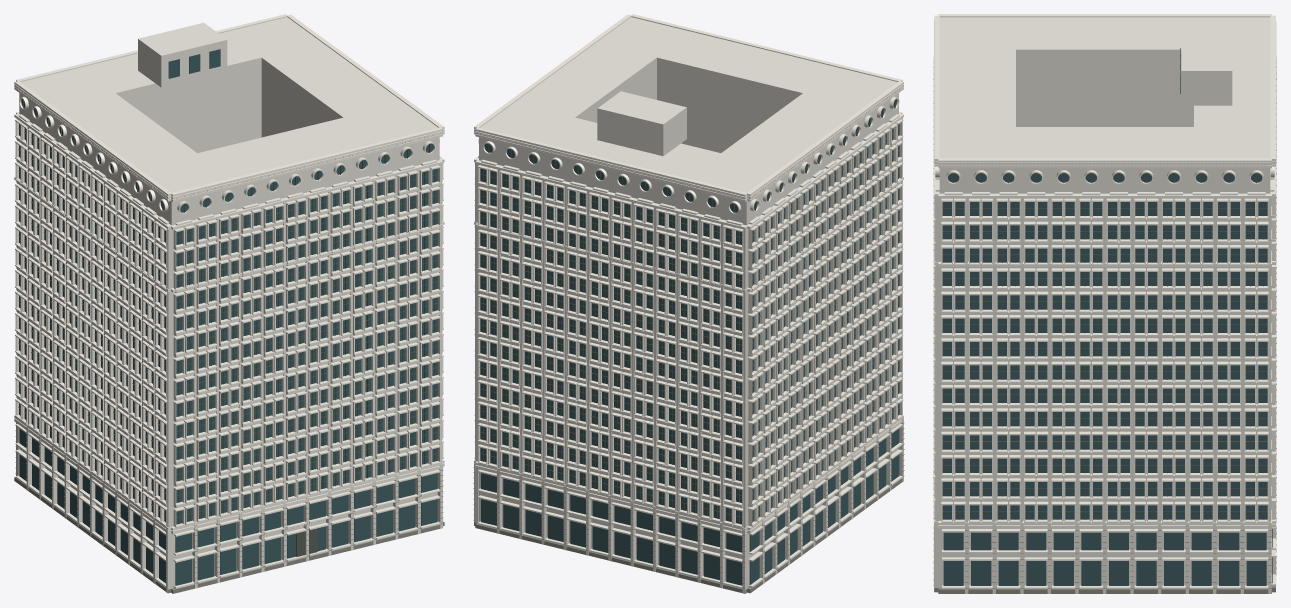
File: railway_exchange.glb
3 renders of one model, left to right at view 1: azimuth 30°, elevation 25°; view 2: azimuth 150°, elevation 25°; view 3: azimuth 270°, elevation 25°, orthographic. The views are drawn at different scales.
Parts seen in each view (by area): view 1: Raised terra cotta ornament, Glazed white terra cotta, Recessed blue green glazing, Dark bronze sashes, Granite entrance plinth; view 2: Raised terra cotta ornament, Glazed white terra cotta, Recessed blue green glazing, Dark bronze sashes, Granite entrance plinth; view 3: Glazed white terra cotta, Raised terra cotta ornament, Recessed blue green glazing, Dark bronze sashes, Granite entrance plinth.
Part boxes in pixels (box(x1,y1,x2,y2)): Raised terra cotta ornament: box(14, 14, 444, 588); Glazed white terra cotta: box(16, 17, 442, 593); Recessed blue green glazing: box(19, 49, 438, 585); Dark bronze sashes: box(18, 100, 438, 556); Granite entrance plinth: box(14, 430, 444, 593); Raised terra cotta ornament: box(474, 14, 903, 588); Glazed white terra cotta: box(474, 17, 903, 593); Recessed blue green glazing: box(480, 99, 899, 585); Dark bronze sashes: box(479, 100, 899, 523); Granite entrance plinth: box(473, 422, 904, 593); Glazed white terra cotta: box(934, 17, 1276, 593); Raised terra cotta ornament: box(933, 14, 1276, 588); Recessed blue green glazing: box(942, 48, 1272, 585); Dark bronze sashes: box(942, 173, 1267, 519); Granite entrance plinth: box(933, 520, 1276, 593).
Size of the model in its own units: 54.86 by 81 by 54.08.
